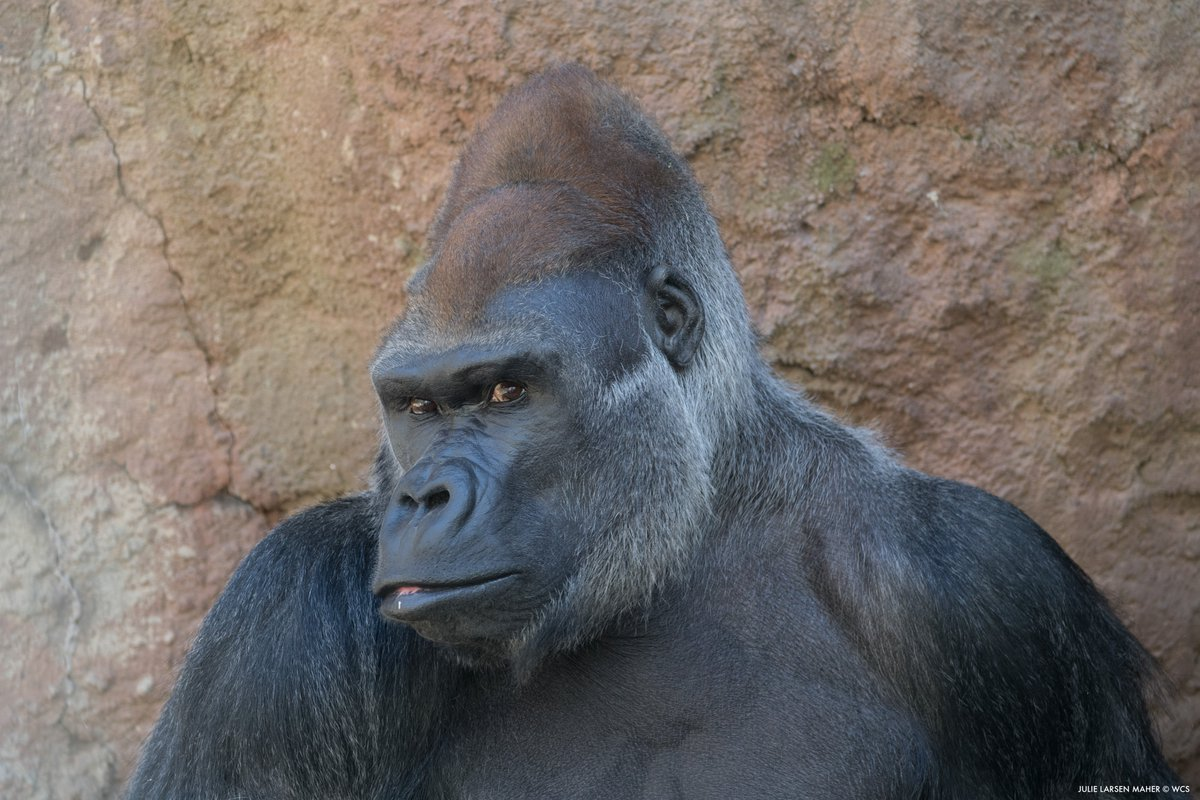Gorilla: (227, 122, 1035, 762)
